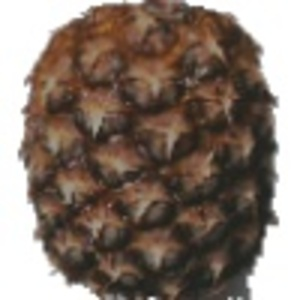abacaxi: (18, 2, 283, 292)
